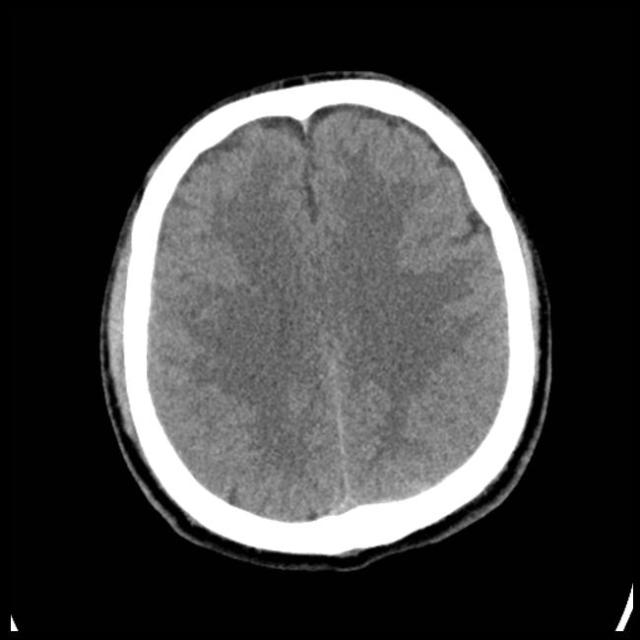lesion: (97, 68, 554, 570)
